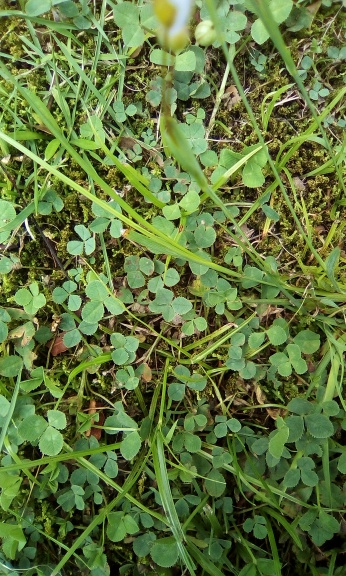4leaf: (148, 288, 193, 324), (88, 200, 124, 238), (269, 343, 309, 377), (14, 282, 46, 314)
